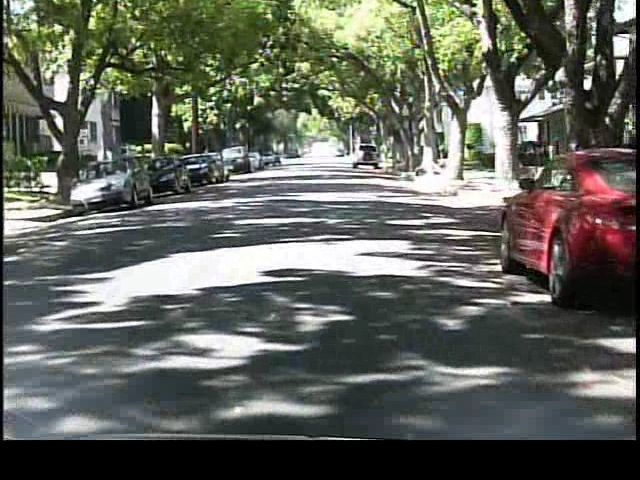person: (94, 144, 117, 195)
